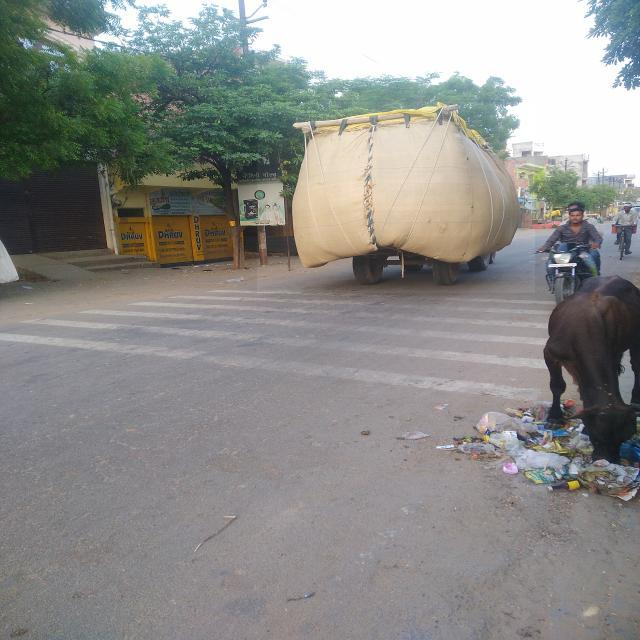Bike: (558, 186, 606, 300)
Tractot: (257, 102, 535, 293)
